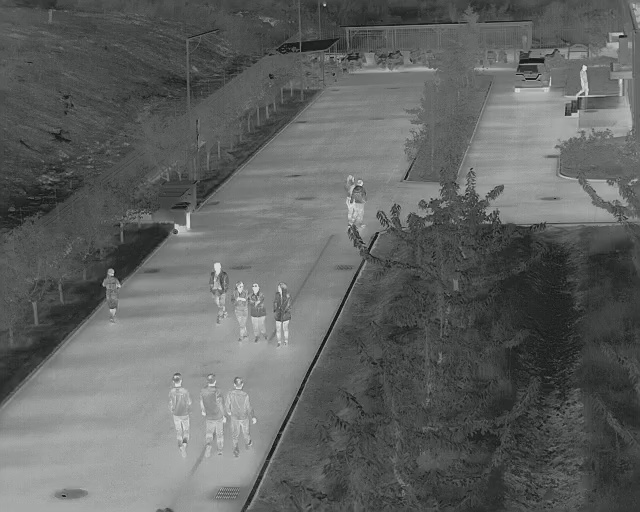person: (165, 374, 195, 461), (199, 372, 227, 460), (230, 375, 257, 456), (272, 280, 294, 347), (210, 261, 232, 322), (248, 282, 270, 342), (344, 174, 366, 227), (101, 267, 122, 321), (232, 280, 250, 340), (576, 62, 591, 96)
vehicle: (511, 56, 549, 96)
